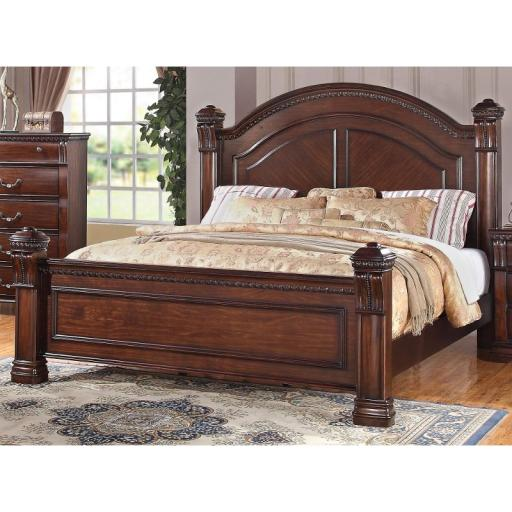bed: (7, 83, 505, 428)
